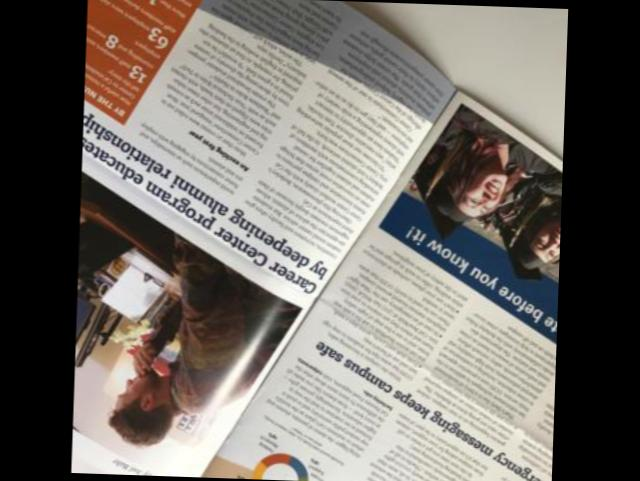cardboard paper: (72, 0, 563, 481)
